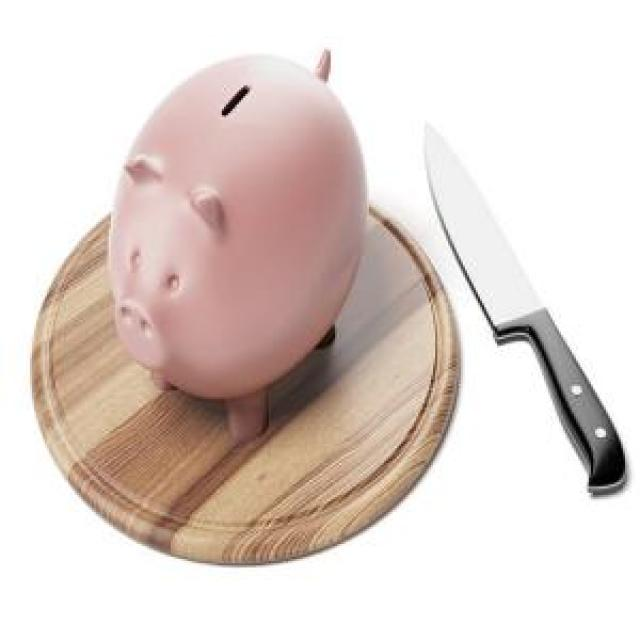knife: (422, 124, 628, 510)
